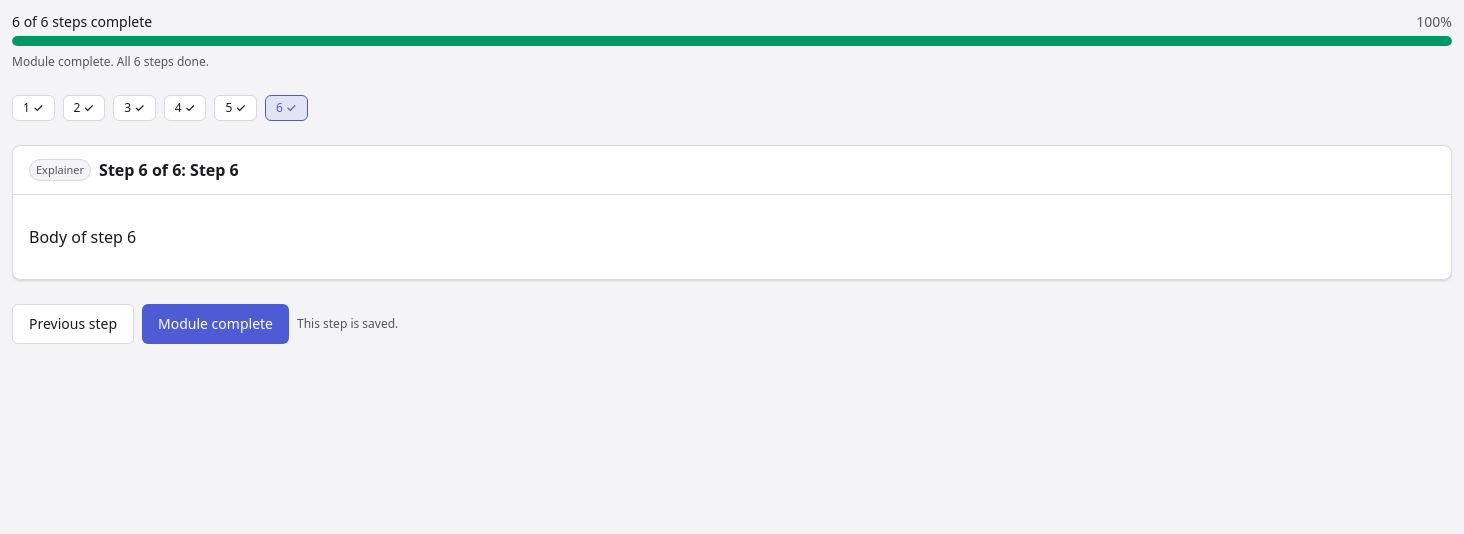
Test: ModuleRunner — a step is addressable by kind › opens the check step, and its markup carries no answer key
Click the button with test id "learn-step-tab" at (185, 108), box [164,95,206,121]
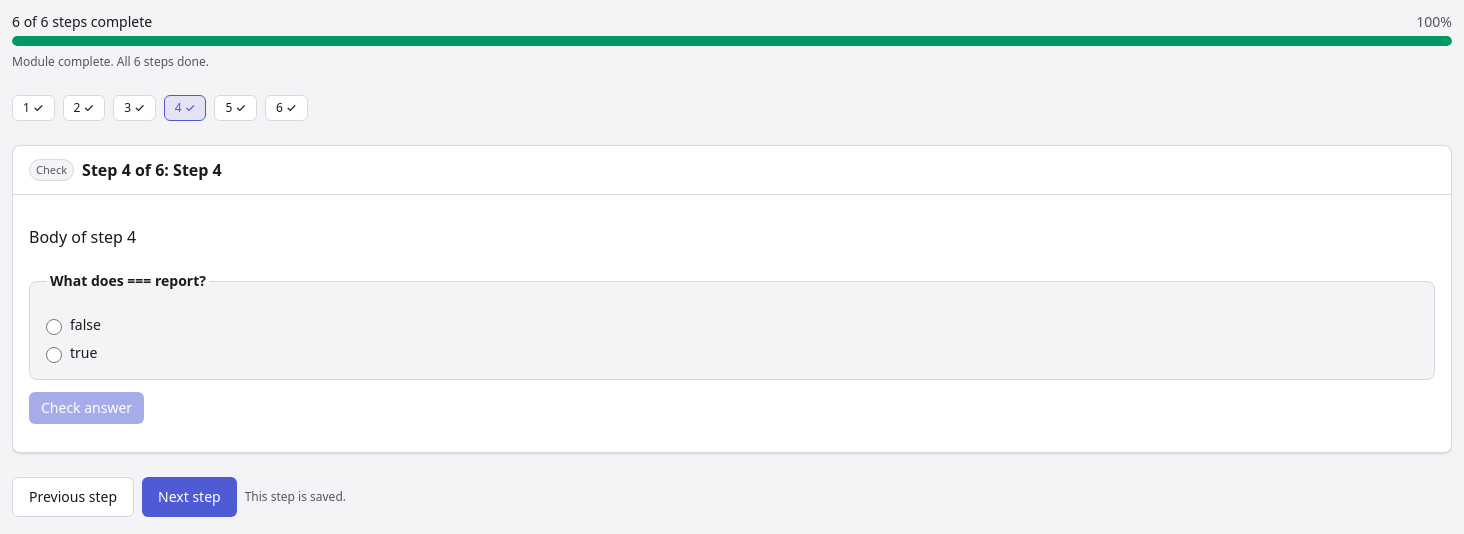
Expected: the element with test id "learn-check-step" is shown, [29,271,1435,436]
